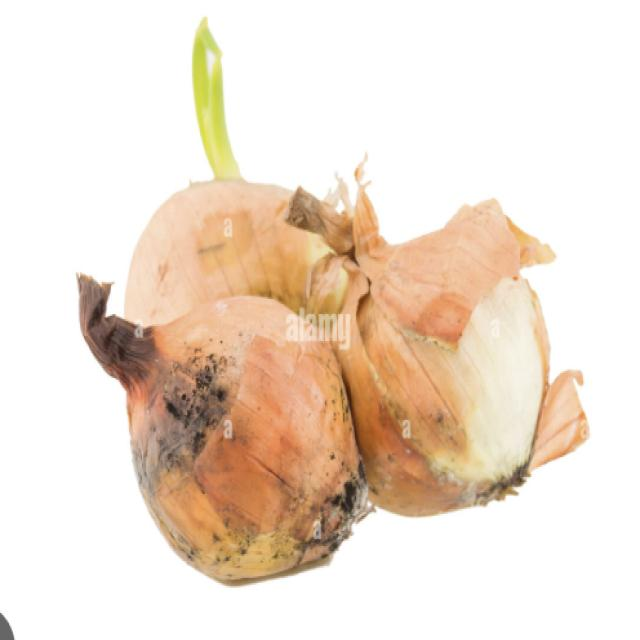mechanical_damage: (359, 150, 593, 510)
rotten: (81, 281, 375, 608)
sprouting: (134, 15, 340, 328)
